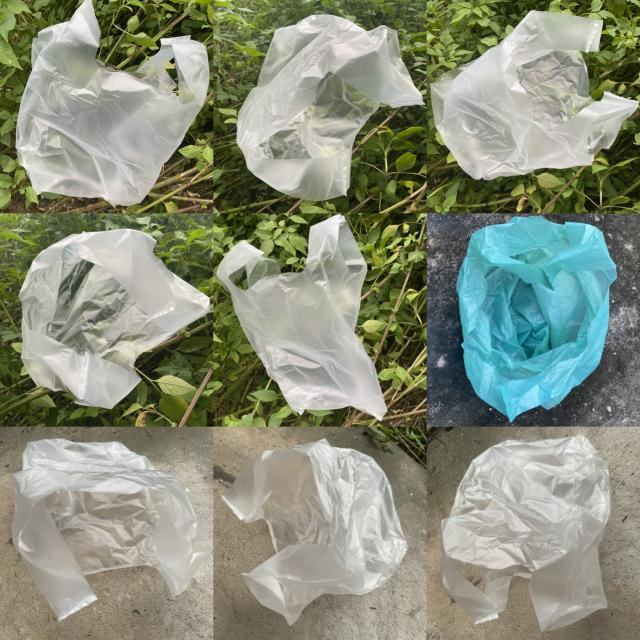Single-layer Plastic: (16, 0, 209, 206), (430, 11, 639, 179), (12, 439, 206, 619), (216, 215, 386, 420), (236, 15, 422, 200), (19, 229, 210, 408), (222, 439, 406, 624), (441, 435, 610, 630), (458, 216, 616, 421)
